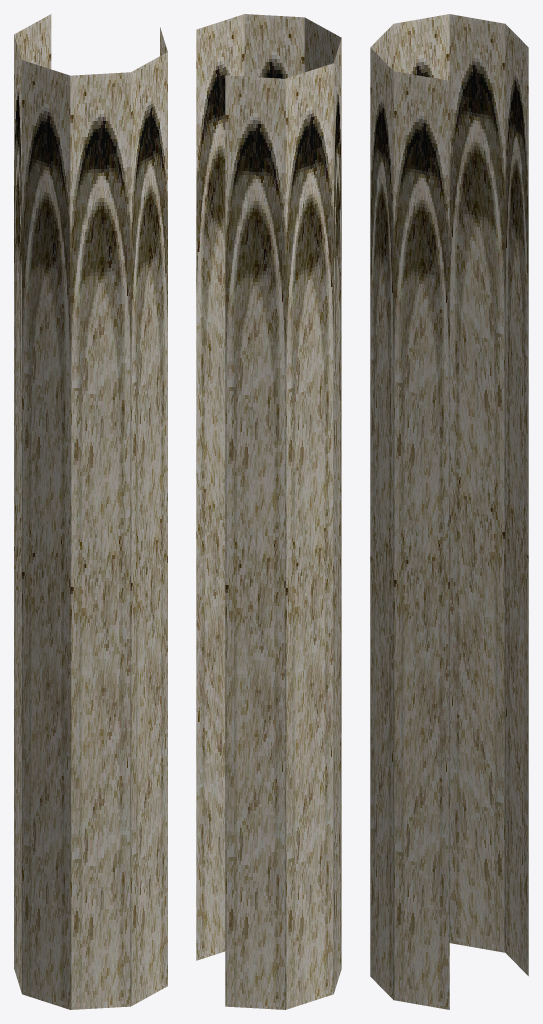
File: StonePillar.glb
3 renders of one model, left to right at view 1: azimuth 30°, elevation 25°; view 2: azimuth 150°, elevation 25°; view 3: azimuth 270°, elevation 25°, orthographic.
Visible parts, largest first — view 1: Pillar; view 2: Pillar; view 3: Pillar.
Part boxes in pixels (x1,y1,x2,y2): Pillar: (14,14,167,1009); Pillar: (196,14,341,1009); Pillar: (370,14,528,1009).
Bounding box in the file's own units: 0.4807 × 3.11 × 0.4807.
Materials: 1 (1 with a texture image).
